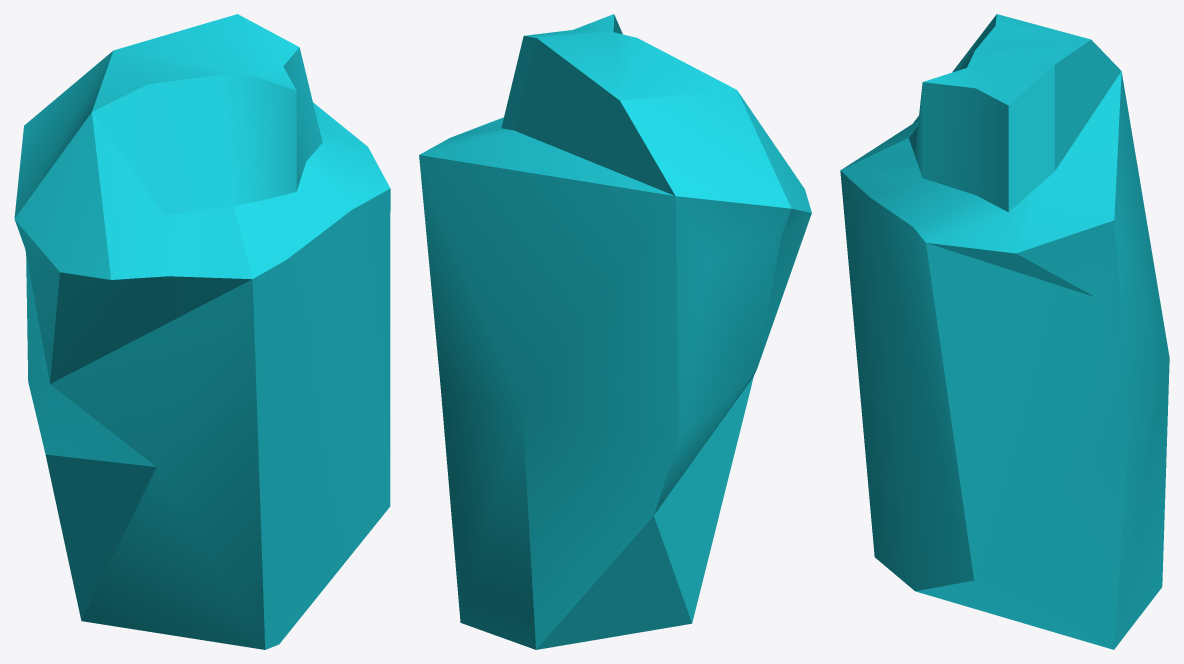
Rendered from skala4.fbx.
3 renders of one model, left to right at view 1: azimuth 30°, elevation 25°; view 2: azimuth 150°, elevation 25°; view 3: azimuth 270°, elevation 25°, orthographic. The views are drawn at different scales.
Visible parts, largest first — view 1: skala4; view 2: skala4; view 3: skala4.
Boxes of the visible parts, x1=… form: skala4: x1=14, y1=14, x2=390, y2=649; skala4: x1=419, y1=14, x2=811, y2=649; skala4: x1=840, y1=14, x2=1169, y2=649.
Bounding box in the file's own units: 0.4143 × 0.6631 × 0.3514.
